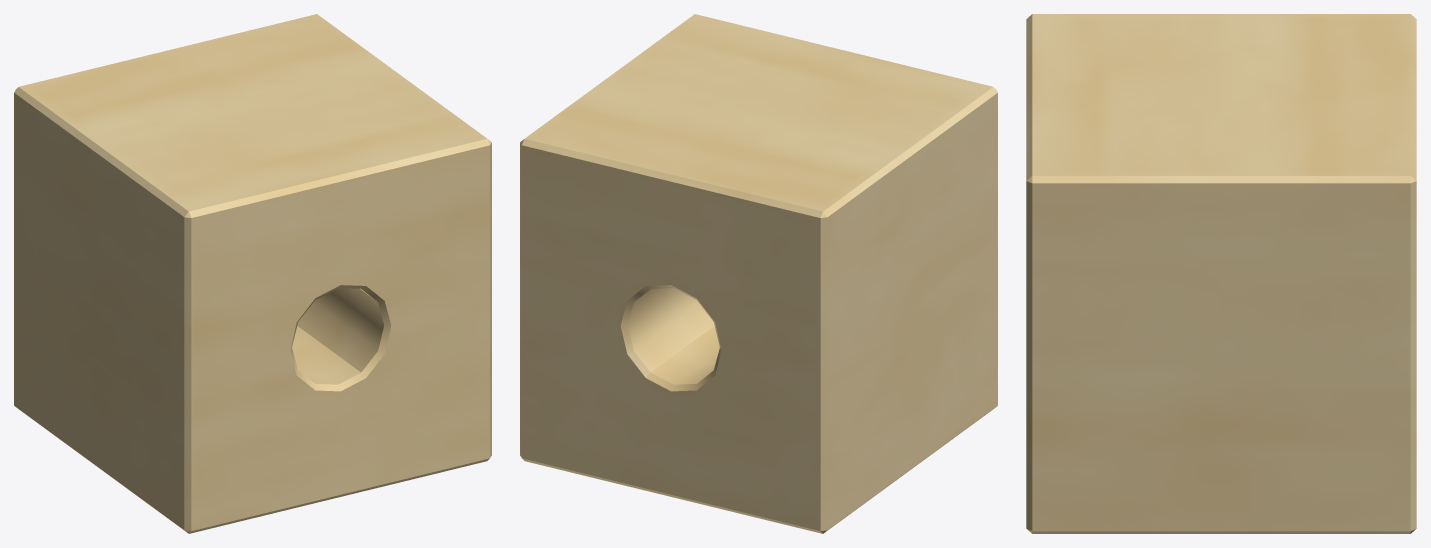
Rendered from block2 1.fbx.
3 views of the same model, side by side, from view 1: azimuth 30°, elevation 25°; view 2: azimuth 150°, elevation 25°; view 3: azimuth 270°, elevation 25° (orthographic). The views are drawn at different scales.
Parts seen in each view (by area): view 1: block2; view 2: block2; view 3: block2.
Boxes of the visible parts, <box> form: block2: <box>14,14,491,533</box>; block2: <box>520,14,997,533</box>; block2: <box>1026,14,1416,533</box>.
Size of the model in its own units: 1.2 by 1.2 by 1.18.
